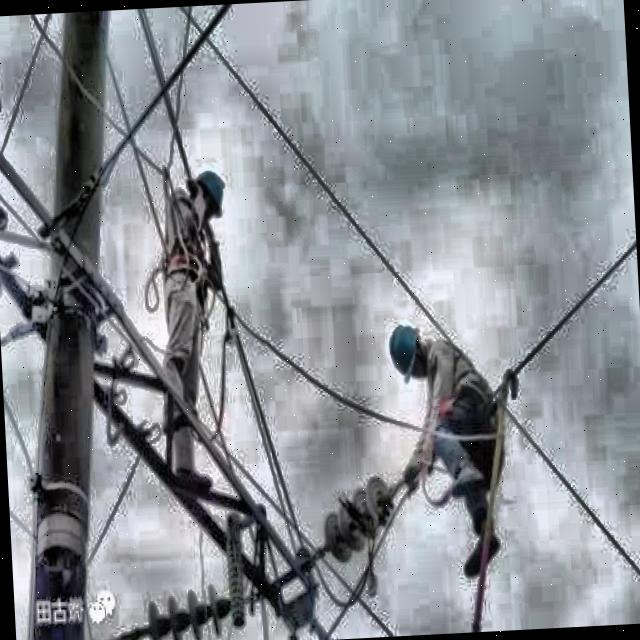helmet: (384, 316, 431, 380), (190, 160, 230, 227)
